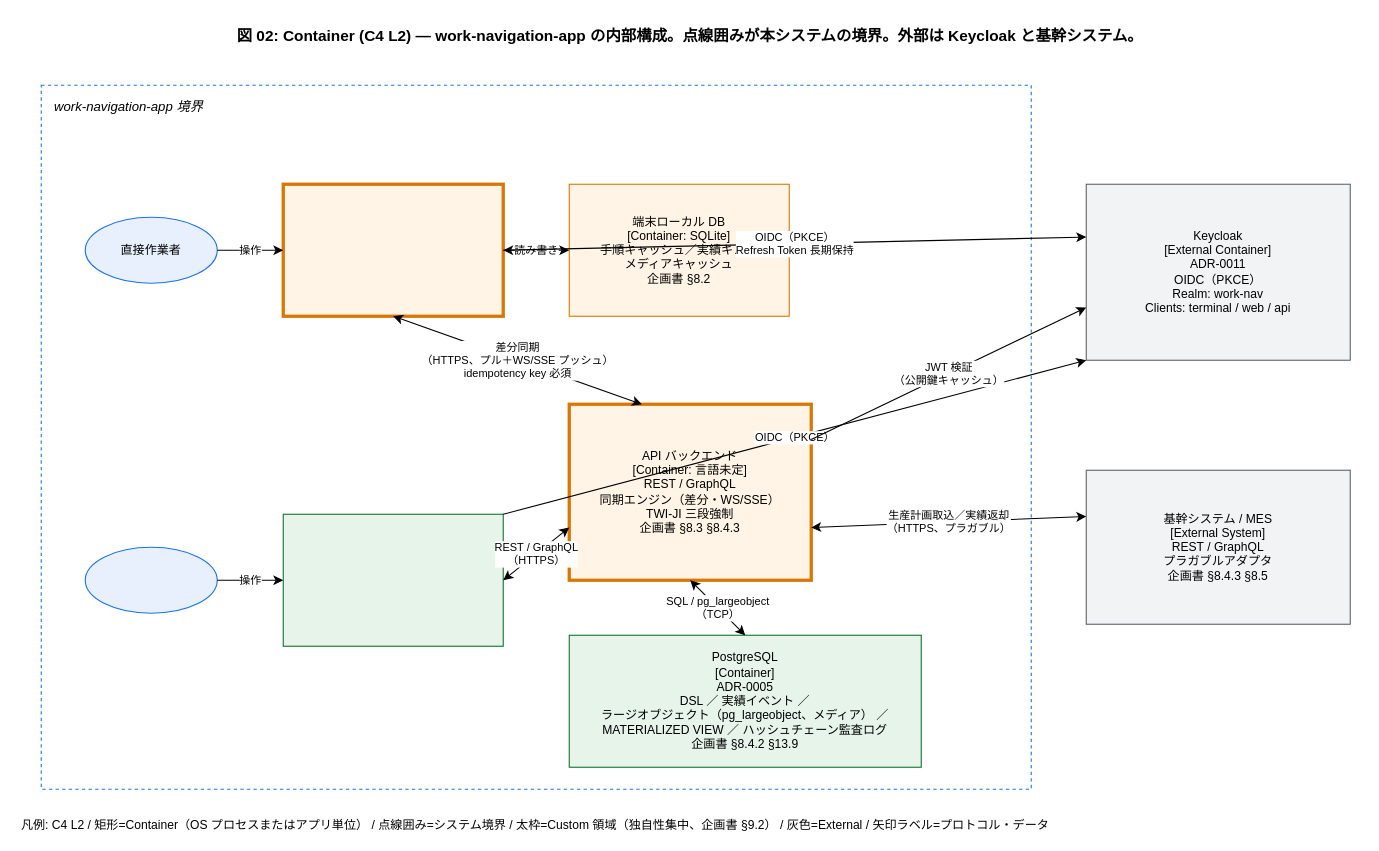
Image size: 1379x851. Some labels were removed from this diagram. Each missing label, with the box of its shape:
メンテナンス Web SPA [Container: React] ADR-0004 手順作成・改訂・ダッシュボード 企画書 §8.3: (282, 513, 503, 646)
手順作成者 改訂者: (84, 546, 217, 613)
端末アプリ [Container: Tauri] Android / Windows React UI 共有（再生専用） 企画書 §8.2: (281, 182, 504, 317)
